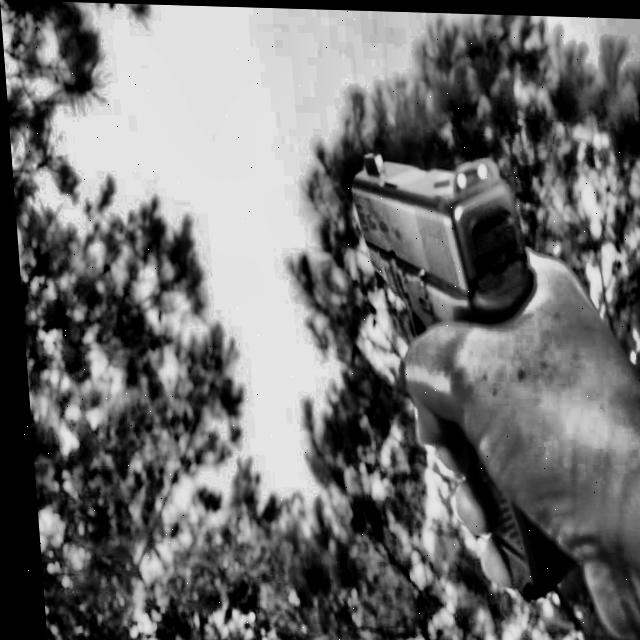pistol: (302, 112, 638, 629)
